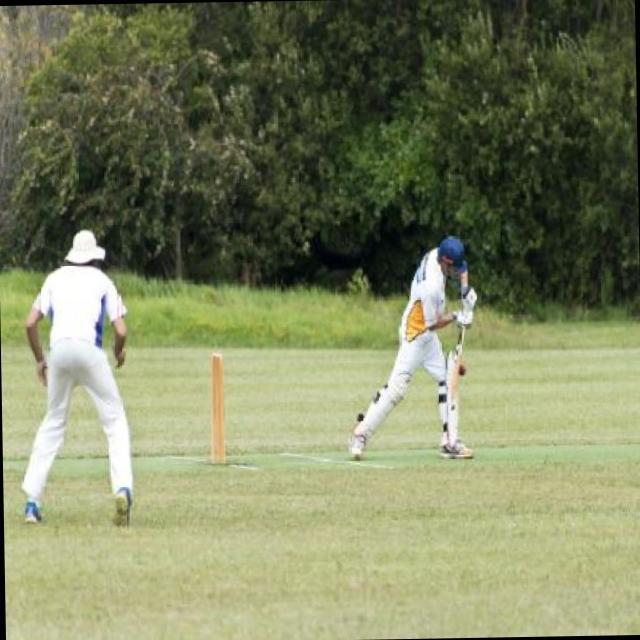-: (455, 357, 476, 390)
